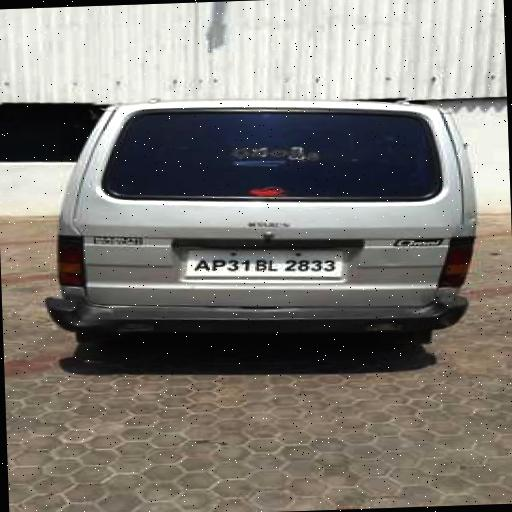license_plate`: (182, 242, 341, 280)
